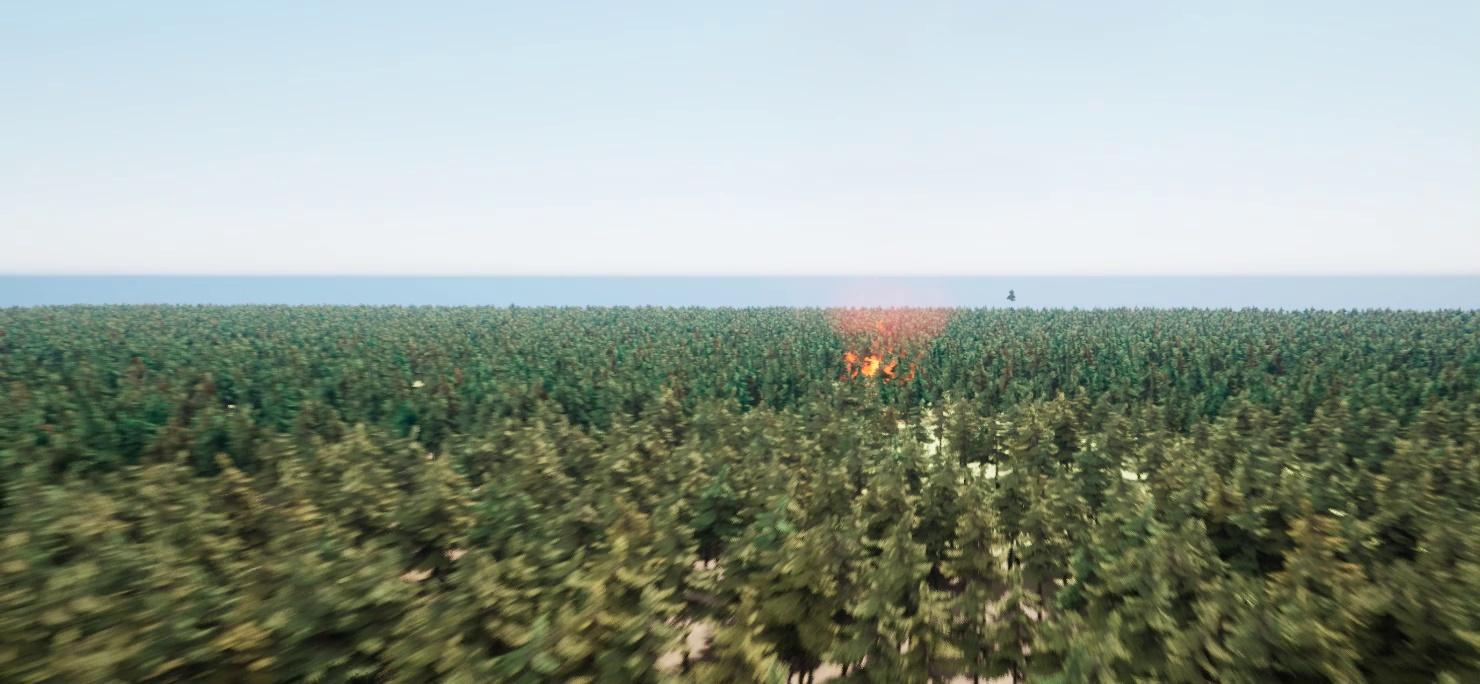fire: (845, 351, 906, 377)
smoke: (825, 285, 959, 349)
